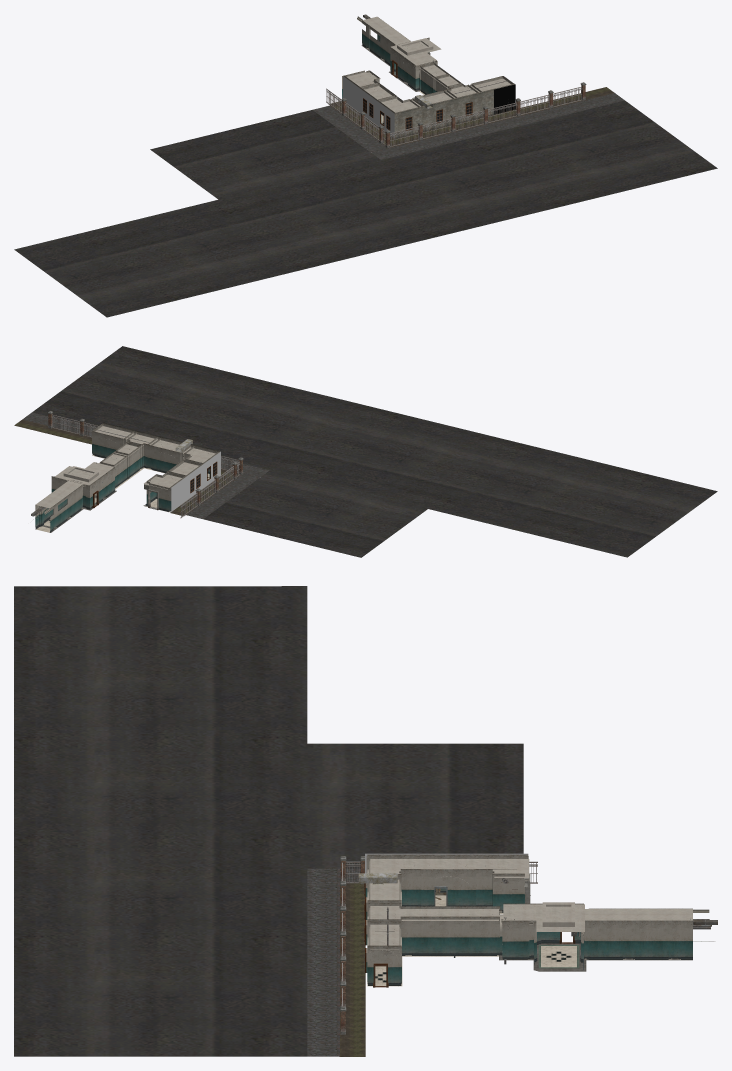
The model's file is st4_214_0_terrain_00ms.fbx.
The picture shows the model from 3 angles, top to bottom: view 1: azimuth 30°, elevation 25°; view 2: azimuth 150°, elevation 25°; view 3: azimuth 270°, elevation 25°; orthographic projection. The views are drawn at different scales.
Visible parts, largest first — view 1: LOD_1_Group_0_Sub_8__st1_townAsphalt00_Mat, LOD_1_Group_0_Sub_7__st1_townGround02_Mat, LOD_1_Group_0_Sub_10__st2_police1fLeftCeiling01, LOD_1_Group_0_Sub_1__st2_police1fLeftWall01, LOD_1_Group_0_Sub_27__st1_townPoliceFence01_Mat, LOD_1_Group_0_Sub_21__st2_police1fLeftWall02, LOD_1_Group_0_Sub_6__st1_townGround01_Mat, LOD_1_Group_0_Sub_20__Wall_Mat, LOD_1_Group_0_Sub_26__st1_townBuild04_Mat, LOD_1_Group_0_Sub_22__st2_FloorWater01_Mat; view 2: LOD_1_Group_0_Sub_8__st1_townAsphalt00_Mat, LOD_1_Group_0_Sub_1__st2_police1fLeftWall01, LOD_1_Group_0_Sub_10__st2_police1fLeftCeiling01, LOD_1_Group_0_Sub_7__st1_townGround02_Mat, LOD_1_Group_0_Sub_27__st1_townPoliceFence01_Mat, LOD_1_Group_0_Sub_6__st1_townGround01_Mat, LOD_1_Group_0_Sub_20__Wall_Mat, LOD_1_Group_0_Sub_3__st2_police1fLeftCeiling04, LOD_1_Group_0_Sub_26__st1_townBuild04_Mat; view 3: LOD_1_Group_0_Sub_8__st1_townAsphalt00_Mat, LOD_1_Group_0_Sub_1__st2_police1fLeftWall01, LOD_1_Group_0_Sub_10__st2_police1fLeftCeiling01, LOD_1_Group_0_Sub_7__st1_townGround02_Mat, LOD_1_Group_0_Sub_6__st1_townGround01_Mat, LOD_1_Group_0_Sub_3__st2_police1fLeftCeiling04, LOD_1_Group_0_Sub_26__st1_townBuild04_Mat, LOD_1_Group_0_Sub_9__st2_police1fLeftFloor09, LOD_1_Group_0_Sub_5__st2_police1fLeftFloor01.
Boxes of the visible parts, box(x1,y1,x2,y2) form: LOD_1_Group_0_Sub_8__st1_townAsphalt00_Mat: box(14, 100, 717, 317); LOD_1_Group_0_Sub_7__st1_townGround02_Mat: box(312, 93, 624, 159); LOD_1_Group_0_Sub_10__st2_police1fLeftCeiling01: box(347, 16, 510, 112); LOD_1_Group_0_Sub_1__st2_police1fLeftWall01: box(342, 20, 514, 122); LOD_1_Group_0_Sub_27__st1_townPoliceFence01_Mat: box(326, 86, 582, 146); LOD_1_Group_0_Sub_21__st2_police1fLeftWall02: box(394, 89, 493, 138); LOD_1_Group_0_Sub_6__st1_townGround01_Mat: box(328, 87, 614, 147); LOD_1_Group_0_Sub_20__Wall_Mat: box(343, 76, 394, 138); LOD_1_Group_0_Sub_26__st1_townBuild04_Mat: box(341, 82, 586, 148); LOD_1_Group_0_Sub_22__st2_FloorWater01_Mat: box(494, 84, 515, 114); LOD_1_Group_0_Sub_8__st1_townAsphalt00_Mat: box(32, 346, 717, 557); LOD_1_Group_0_Sub_1__st2_police1fLeftWall01: box(35, 423, 219, 530); LOD_1_Group_0_Sub_10__st2_police1fLeftCeiling01: box(35, 426, 215, 508); LOD_1_Group_0_Sub_7__st1_townGround02_Mat: box(22, 412, 269, 518); LOD_1_Group_0_Sub_27__st1_townPoliceFence01_Mat: box(52, 414, 240, 518); LOD_1_Group_0_Sub_6__st1_townGround01_Mat: box(14, 420, 239, 515); LOD_1_Group_0_Sub_20__Wall_Mat: box(170, 451, 220, 512); LOD_1_Group_0_Sub_3__st2_police1fLeftCeiling04: box(35, 440, 209, 532); LOD_1_Group_0_Sub_26__st1_townBuild04_Mat: box(47, 411, 243, 505); LOD_1_Group_0_Sub_8__st1_townAsphalt00_Mat: box(14, 586, 523, 1056); LOD_1_Group_0_Sub_1__st2_police1fLeftWall01: box(365, 854, 692, 982); LOD_1_Group_0_Sub_10__st2_police1fLeftCeiling01: box(370, 859, 692, 949); LOD_1_Group_0_Sub_7__st1_townGround02_Mat: box(307, 868, 360, 1056); LOD_1_Group_0_Sub_6__st1_townGround01_Mat: box(339, 883, 365, 1056); LOD_1_Group_0_Sub_3__st2_police1fLeftCeiling04: box(367, 860, 709, 985); LOD_1_Group_0_Sub_26__st1_townBuild04_Mat: box(340, 856, 364, 1034); LOD_1_Group_0_Sub_9__st2_police1fLeftFloor09: box(499, 943, 692, 971); LOD_1_Group_0_Sub_5__st2_police1fLeftFloor01: box(367, 949, 671, 986).
Bounding box in the file's own units: 102 × 5.07 × 64.42.
